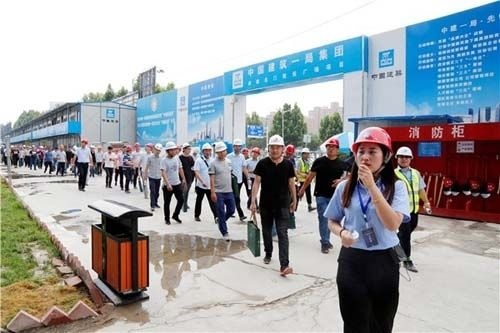red: (350, 124, 393, 177), (324, 136, 340, 158), (249, 146, 261, 160), (284, 143, 295, 158)
white: (394, 144, 414, 170), (214, 140, 228, 158), (164, 140, 177, 157), (200, 142, 213, 158), (232, 138, 243, 154), (181, 142, 192, 156), (153, 141, 163, 156), (300, 146, 310, 159)
